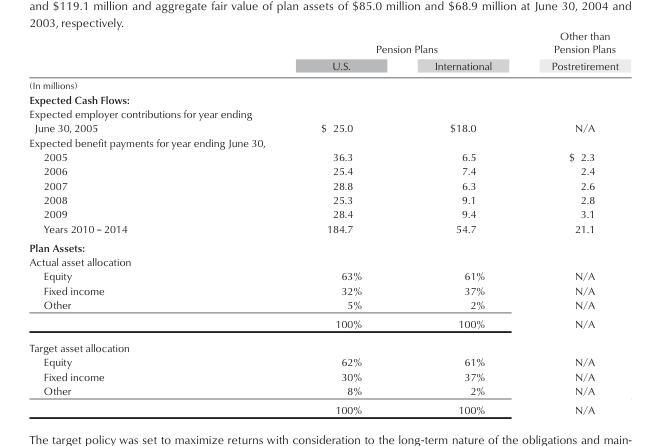table: (28, 28, 617, 415)
table column: (28, 28, 285, 415), (397, 28, 520, 415), (285, 28, 397, 415), (520, 28, 617, 415)
table column header: (28, 28, 617, 91)
table projected row header: (28, 335, 617, 354), (28, 237, 617, 254), (28, 91, 617, 106), (28, 134, 617, 149), (28, 254, 617, 268)
table row: (28, 56, 617, 91), (28, 28, 617, 56), (28, 106, 617, 134), (28, 313, 617, 335), (28, 335, 617, 354), (28, 220, 617, 237), (28, 237, 617, 254), (28, 297, 617, 313), (28, 383, 617, 399), (28, 399, 617, 415), (28, 91, 617, 106), (28, 134, 617, 149), (28, 177, 617, 192), (28, 268, 617, 283), (28, 354, 617, 369), (28, 149, 617, 163), (28, 163, 617, 177), (28, 192, 617, 206), (28, 206, 617, 220), (28, 254, 617, 268), (28, 283, 617, 297), (28, 369, 617, 383)
table spanning cell: (28, 28, 285, 91), (285, 28, 520, 56), (520, 28, 617, 91)
